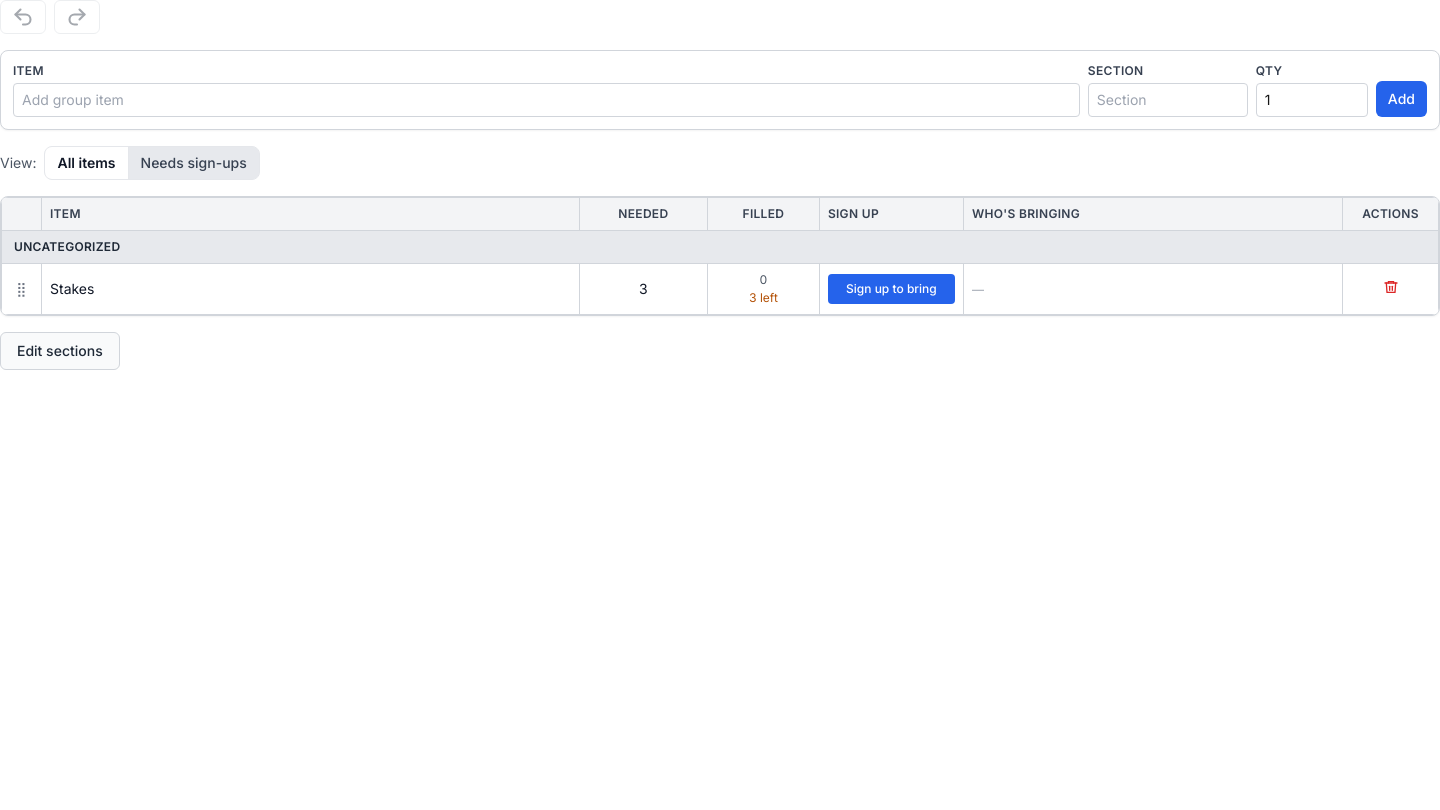
Test: PackingListEditor › opens a sign-up dialog from the row action
Click the button "Sign up to bring". click: {"x": 891, "y": 289}
box: [828,274,955,304]
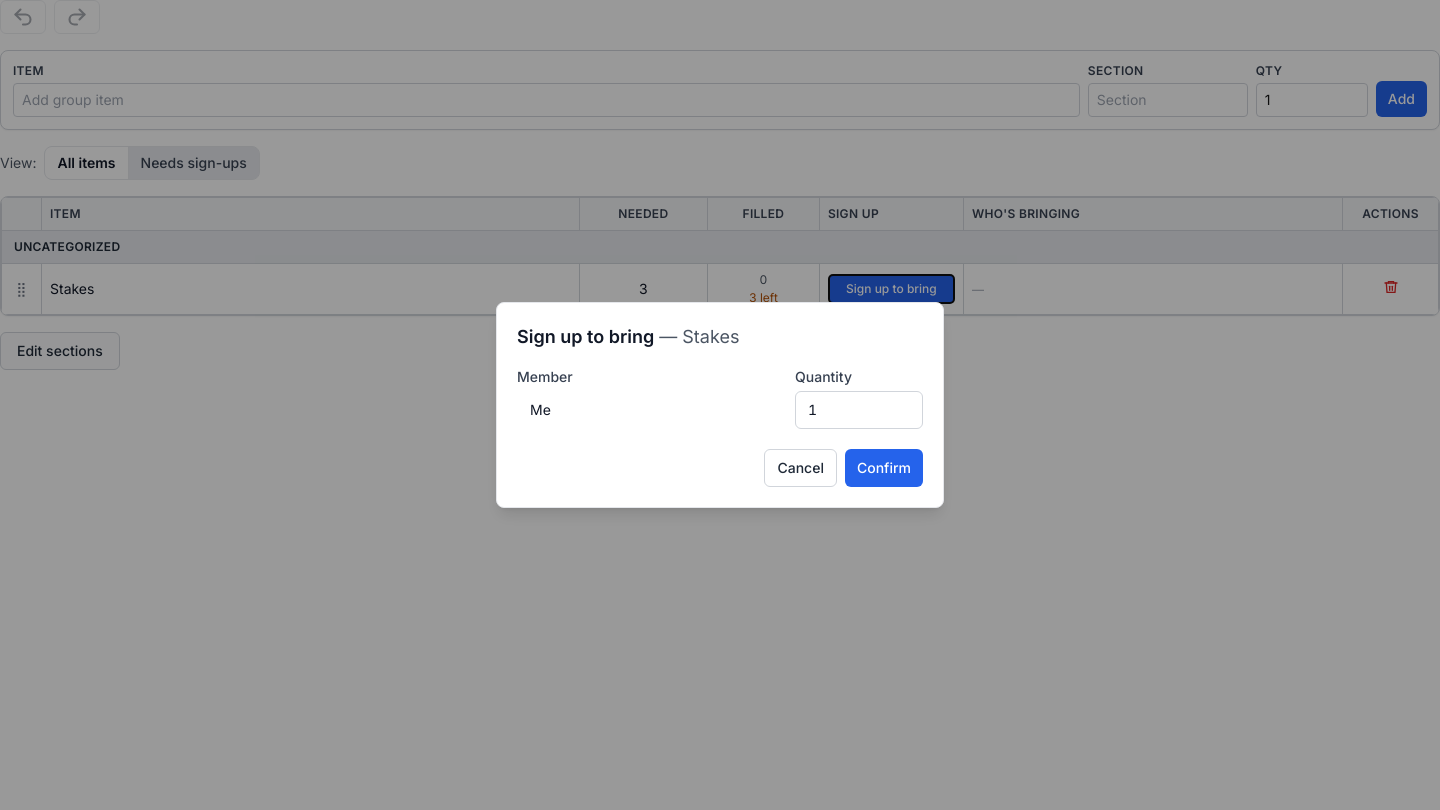
Check: the heading "Sign up to bring — Stakes" is shown, box [517,326,739,347]
Check: the button "Confirm" is shown, box [845,449,923,487]
